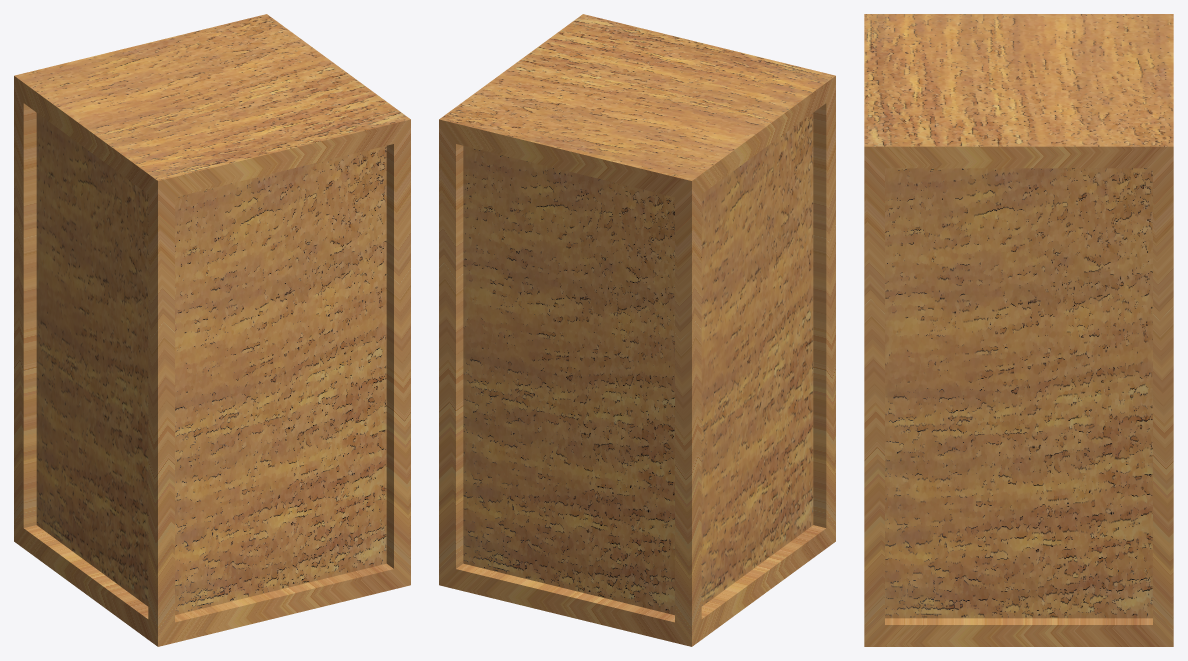
The model's file is CrateTall.fbx.
The picture shows the model from 3 angles, left to right: view 1: azimuth 30°, elevation 25°; view 2: azimuth 150°, elevation 25°; view 3: azimuth 270°, elevation 25°; orthographic projection. The views are drawn at different scales.
Visible parts, largest first — view 1: Box001; view 2: Box001; view 3: Box001.
Boxes of the visible parts, box(x1,y1,x2,y2) form: Box001: box(14, 14, 410, 646); Box001: box(439, 14, 835, 646); Box001: box(864, 14, 1173, 646).
Size of the model in its own units: 1.3 by 2.29 by 1.28.
